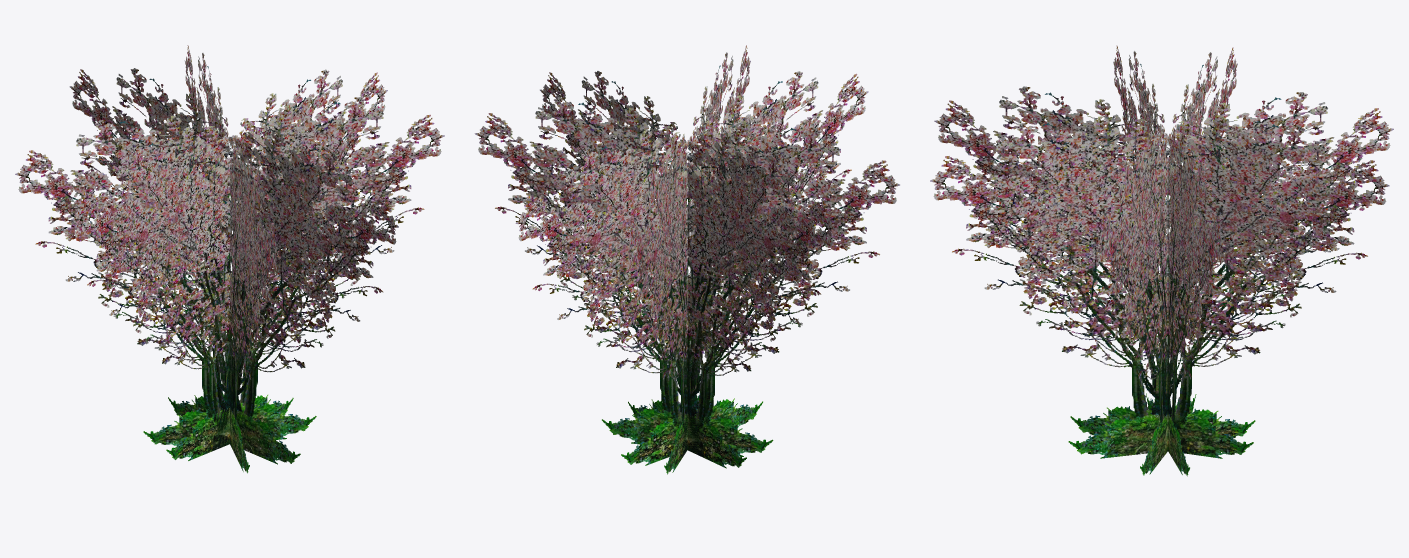
The model's file is tree5.gltf.
3 renders of one model, left to right at view 1: azimuth 30°, elevation 25°; view 2: azimuth 150°, elevation 25°; view 3: azimuth 270°, elevation 25°, orthographic. The views are drawn at different scales.
Visible parts, largest first — view 1: Node_f98fa134-ea01-4955-9a9c-5ee5b9df877f_0_0; view 2: Node_f98fa134-ea01-4955-9a9c-5ee5b9df877f_0_0; view 3: Node_f98fa134-ea01-4955-9a9c-5ee5b9df877f_0_0.
Part boxes in pixels (x1,y1,x2,y2): Node_f98fa134-ea01-4955-9a9c-5ee5b9df877f_0_0: [15, 45, 444, 473]; Node_f98fa134-ea01-4955-9a9c-5ee5b9df877f_0_0: [474, 45, 899, 474]; Node_f98fa134-ea01-4955-9a9c-5ee5b9df877f_0_0: [930, 45, 1393, 476].
Size of the model in its own units: 8.1 by 7.01 by 8.59.
Materials: 1 (1 with a texture image).
